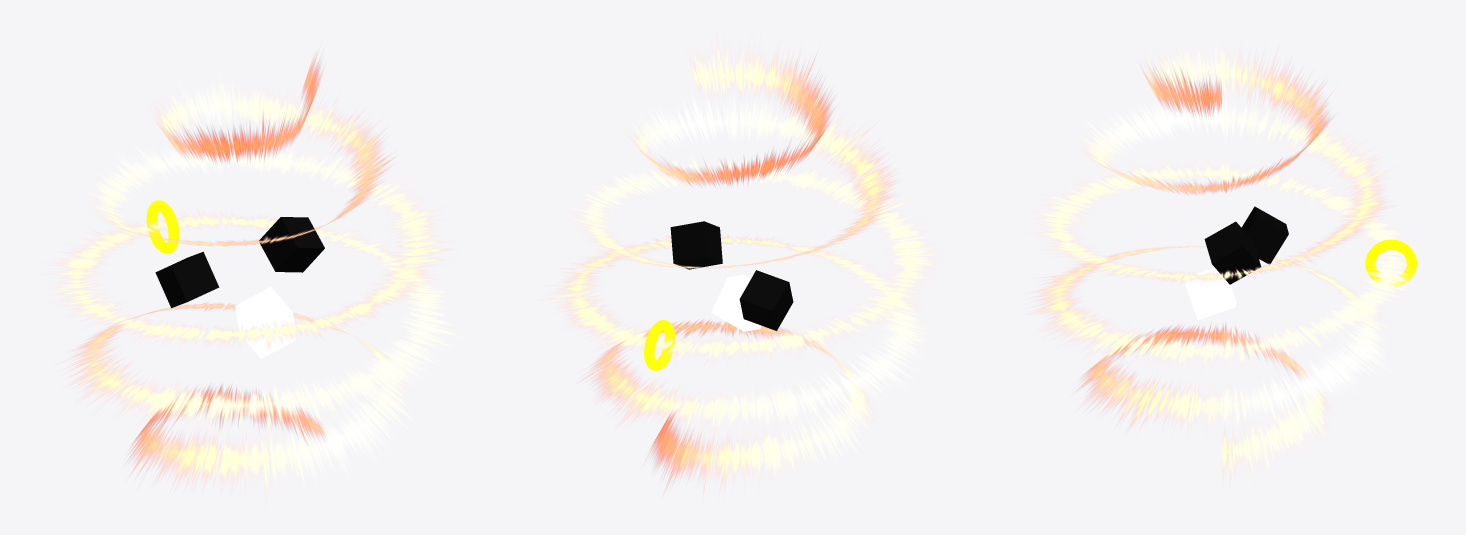
The model's file is gnl_plant.glb.
3 views of the same model, side by side, from view 1: azimuth 30°, elevation 25°; view 2: azimuth 150°, elevation 25°; view 3: azimuth 270°, elevation 25° (orthographic). The views are drawn at different scales.
Visible parts, largest first — view 1: buffer, fd3, fd1, fd2, read_line; view 2: buffer, fd2, fd1, fd3, read_line; view 3: buffer, fd1, fd3, fd2, read_line.
Part boxes in pixels (x1=…): buffer: x1=45, y1=53, x2=463, y2=505; fd3: x1=235, y1=286, x2=296, y2=358; fd1: x1=259, y1=217, x2=324, y2=272; fd2: x1=155, y1=251, x2=219, y2=307; read_line: x1=146, y1=200, x2=179, y2=253; buffer: x1=540, y1=37, x2=942, y2=497; fd2: x1=739, y1=270, x2=793, y2=330; fd1: x1=670, y1=221, x2=722, y2=269; fd3: x1=711, y1=274, x2=761, y2=331; read_line: x1=644, y1=320, x2=675, y2=370; buffer: x1=1027, y1=40, x2=1425, y2=485; fd1: x1=1204, y1=221, x2=1261, y2=284; fd3: x1=1184, y1=267, x2=1236, y2=320; fd2: x1=1241, y1=206, x2=1288, y2=264; read_line: x1=1365, y1=239, x2=1416, y2=286.
Size of the model in its own units: 5.39 by 5.93 by 5.34.
4 materials, 1 textured.
